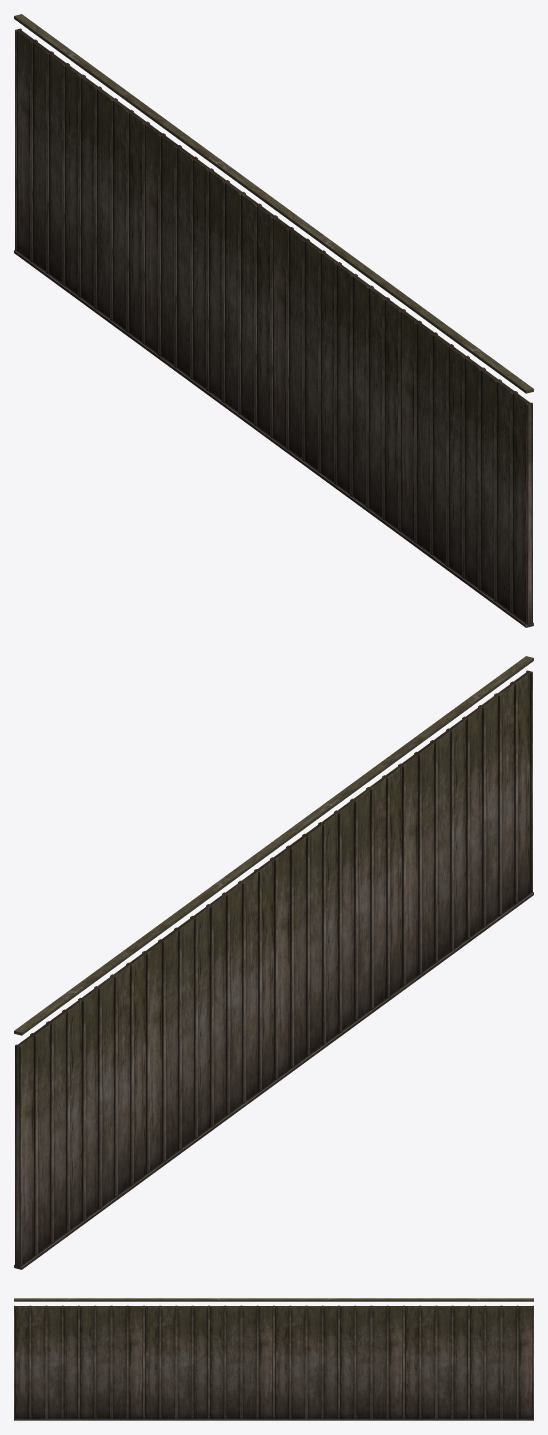
File: JT_Gy_Fence_A_01_x8.fbx
3 renders of one model, top to bottom at view 1: azimuth 30°, elevation 25°; view 2: azimuth 150°, elevation 25°; view 3: azimuth 270°, elevation 25°, orthographic. The views are drawn at different scales.
Visible parts, largest first — view 1: JT_Gy_Fence_A_01_x8, JT_Gy_Fence_A_01_x8_LOD0; view 2: JT_Gy_Fence_A_01_x8, JT_Gy_Fence_A_01_x8_LOD0; view 3: JT_Gy_Fence_A_01_x8, JT_Gy_Fence_A_01_x8_LOD0.
Boxes of the visible parts, left/top/right/bottom form: JT_Gy_Fence_A_01_x8: left=14, top=14, right=533, bottom=627; JT_Gy_Fence_A_01_x8_LOD0: left=14, top=16, right=533, bottom=627; JT_Gy_Fence_A_01_x8: left=14, top=661, right=533, bottom=1269; JT_Gy_Fence_A_01_x8_LOD0: left=14, top=656, right=533, bottom=1269; JT_Gy_Fence_A_01_x8: left=14, top=1298, right=533, bottom=1420; JT_Gy_Fence_A_01_x8_LOD0: left=14, top=1298, right=533, bottom=1420.
Size of what is drawn, in the model's own units: 0.0714 by 2.04 by 8.
